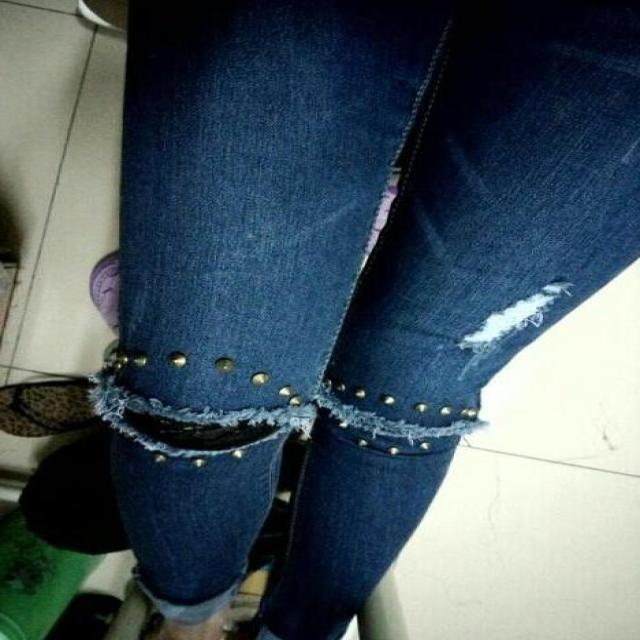trousers: (88, 0, 461, 625)
